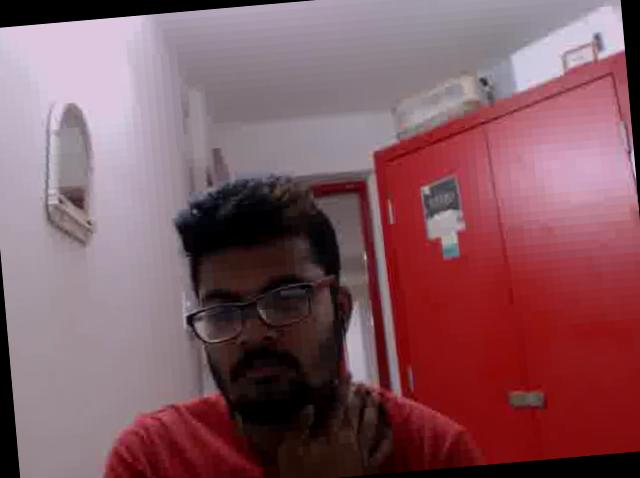bingung: (192, 232, 343, 416)
